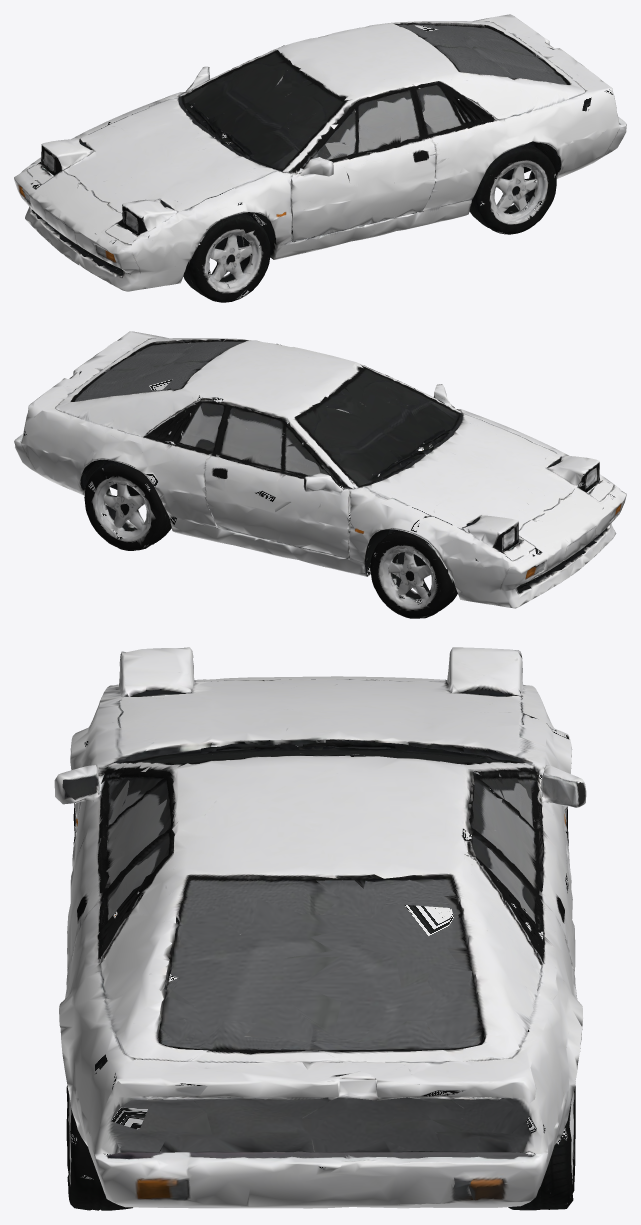
The model's file is car_sport.glb.
3 renders of one model, top to bottom at view 1: azimuth 30°, elevation 25°; view 2: azimuth 150°, elevation 25°; view 3: azimuth 270°, elevation 25°, orthographic. The views are drawn at different scales.
Bounding box in the file's own units: 1.9 × 0.543 × 0.8477.
Materials: 1 (1 with a texture image).
